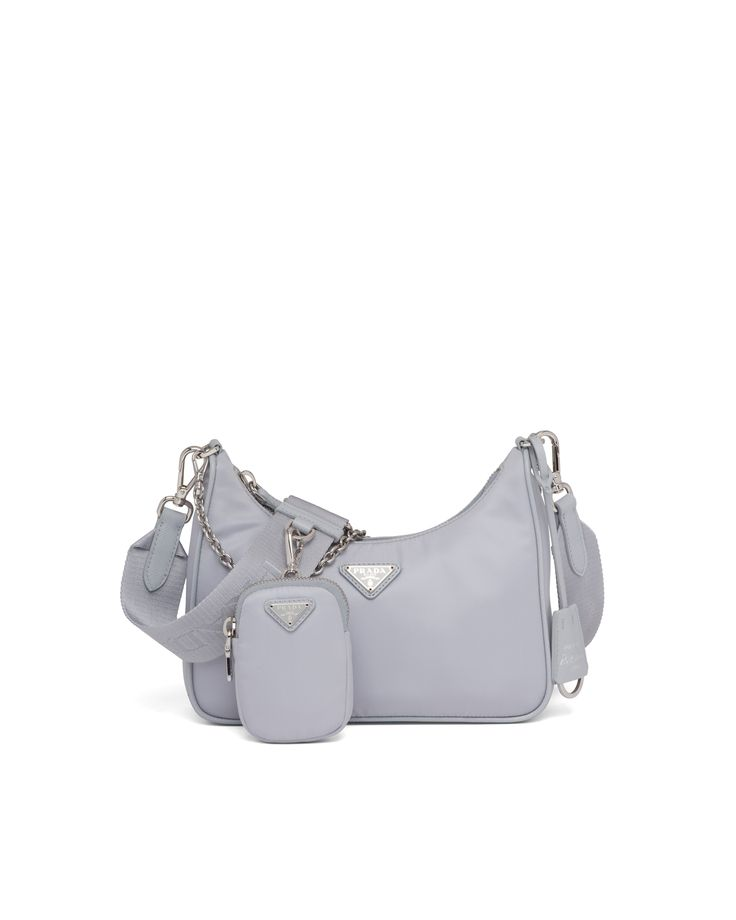nylon: (118, 432, 603, 745)
